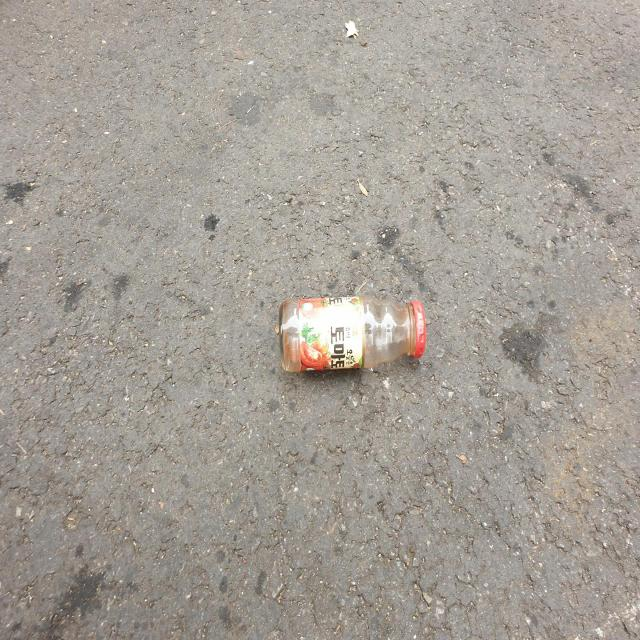glass: (279, 296, 426, 372)
